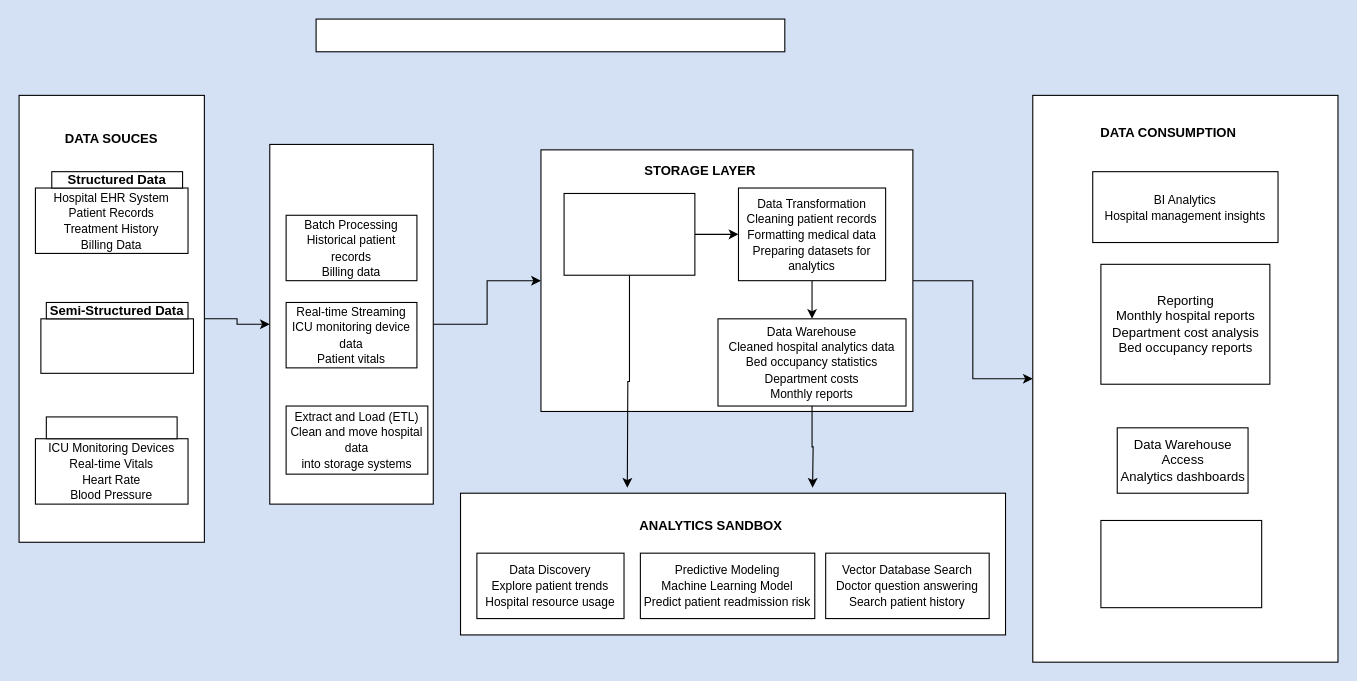
This 1357x681 diagram has some shape labels left out. Each missing label, with the centre of its shape:
AI-Powered Hospital Data Lake Architecture: the point at 550,35
DATA INGESTION: the point at 351,176
Data Lake Stores: ICU device logs Doctor notes Medical images: the point at 629,233
Doctor Notes Medical Reports Patient History Documents: the point at 116,345
Real-time Alerts ICU patient monitoring alerts Critical health warnings: the point at 1181,563
Unstructured Data: the point at 111,427
